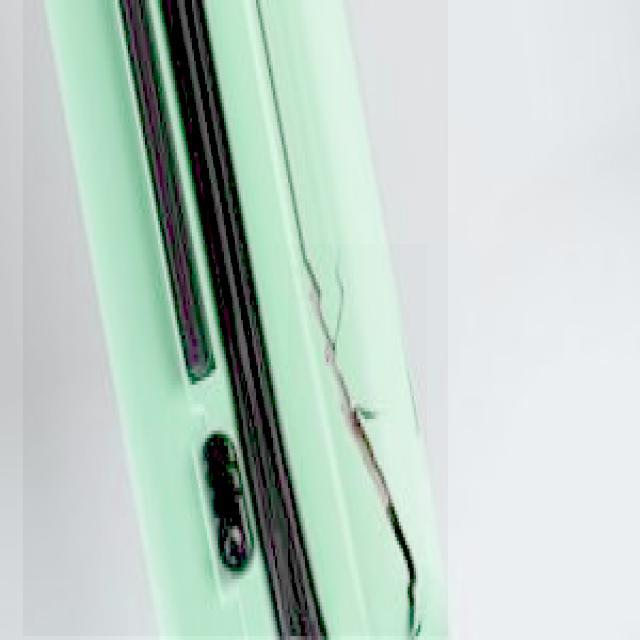Damage-bag: (256, 0, 416, 636)
